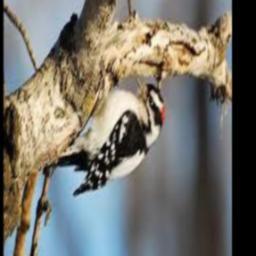Woodpecker: (50, 73, 164, 196)
